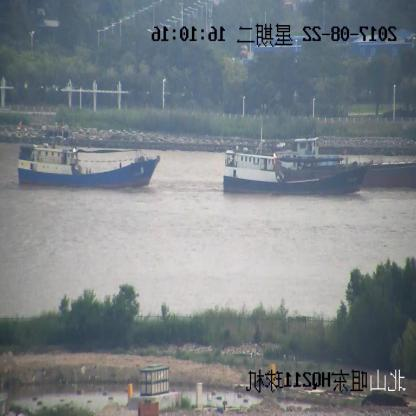Fishing Boat: (224, 136, 368, 195), (18, 133, 158, 189)
